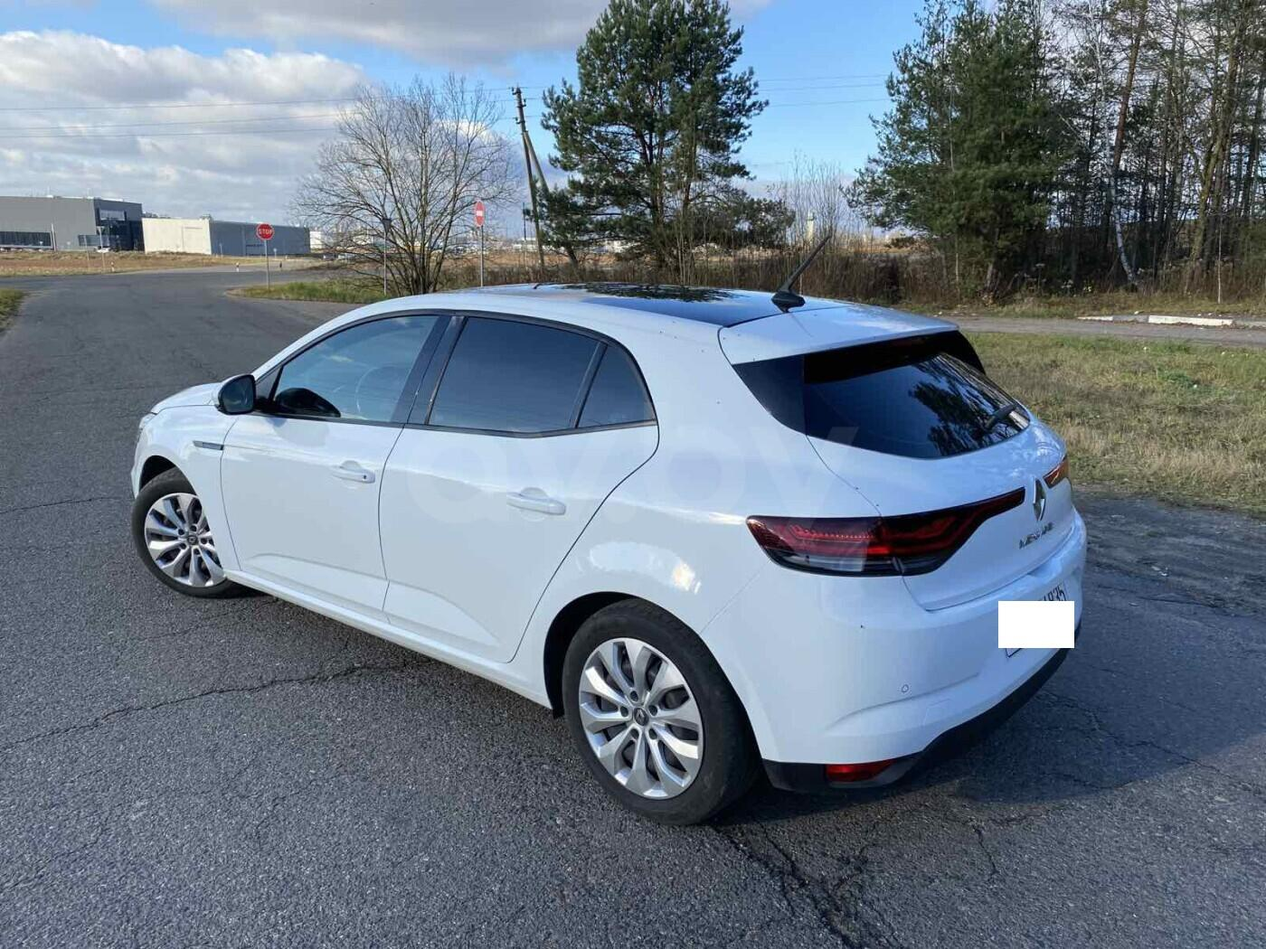Megane_2020: (129, 287, 1092, 825)
